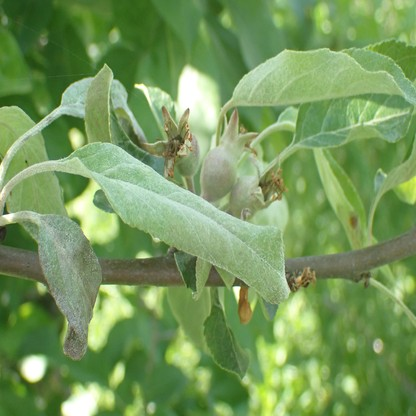frogeye: (350, 216, 357, 229)
powder: (52, 139, 291, 307), (231, 47, 416, 110), (40, 206, 102, 362), (61, 75, 88, 114), (110, 82, 134, 122), (24, 222, 39, 243)
